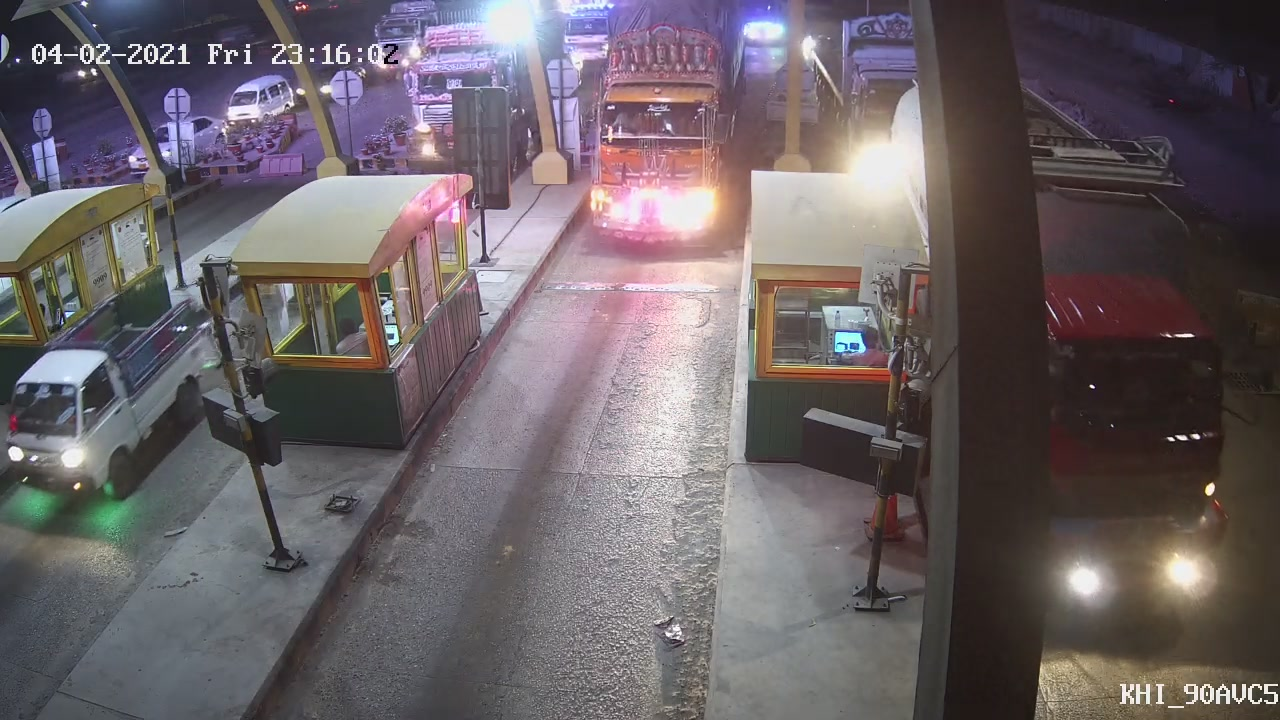F5: (581, 16, 742, 248)
